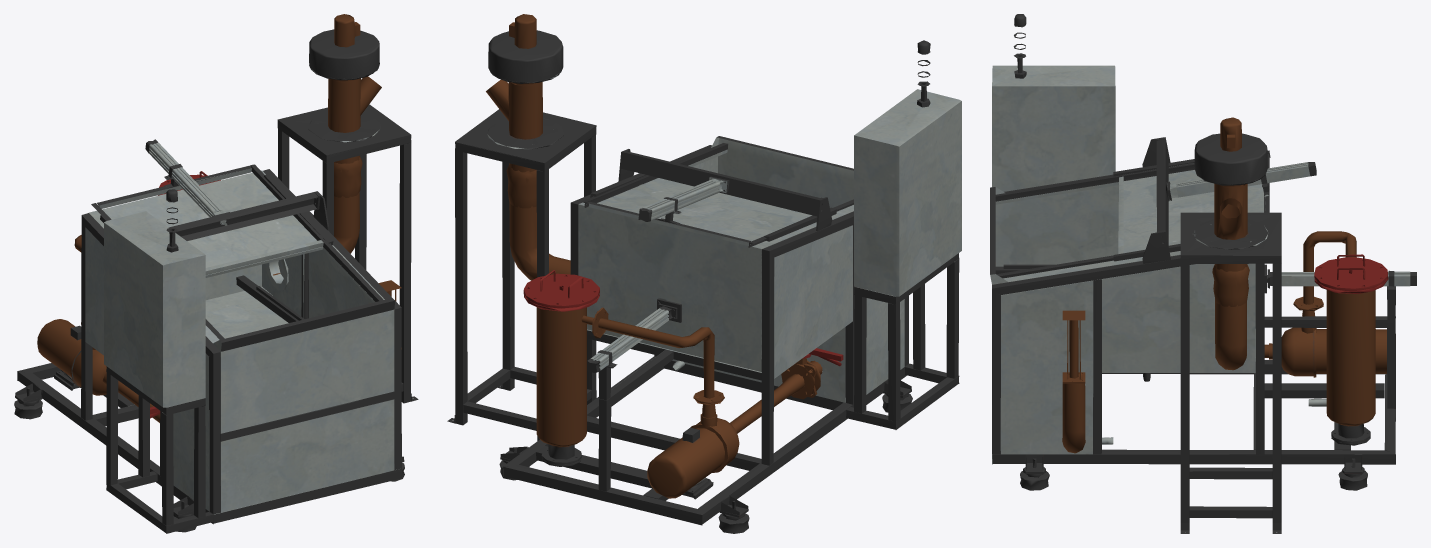
File: dishwasher_no-draco.glb
The picture shows the model from 3 angles, left to right: view 1: azimuth 30°, elevation 25°; view 2: azimuth 150°, elevation 25°; view 3: azimuth 270°, elevation 25°; orthographic projection. The views are drawn at different scales.
Parts seen in each view (by area): view 1: CHAMBER SHEET MATL LAYOUT.stp.004_0, CHAMBER SHEET MATL LAYOUT.stp.004_1; view 2: CHAMBER SHEET MATL LAYOUT.stp.004_1, CHAMBER SHEET MATL LAYOUT.stp.004_0; view 3: CHAMBER SHEET MATL LAYOUT.stp.004_1, CHAMBER SHEET MATL LAYOUT.stp.004_0.
Boxes of the visible parts, x1=… form: CHAMBER SHEET MATL LAYOUT.stp.004_0: x1=85, y1=68, x2=396, y2=514; CHAMBER SHEET MATL LAYOUT.stp.004_1: x1=14, y1=14, x2=418, y2=533; CHAMBER SHEET MATL LAYOUT.stp.004_1: x1=447, y1=14, x2=959, y2=533; CHAMBER SHEET MATL LAYOUT.stp.004_0: x1=488, y1=67, x2=961, y2=481; CHAMBER SHEET MATL LAYOUT.stp.004_1: x1=990, y1=14, x2=1416, y2=533; CHAMBER SHEET MATL LAYOUT.stp.004_0: x1=990, y1=65, x2=1410, y2=464.
Size of the model in its own units: 1.84 by 1.91 by 1.9.
2 materials, 2 textured.
